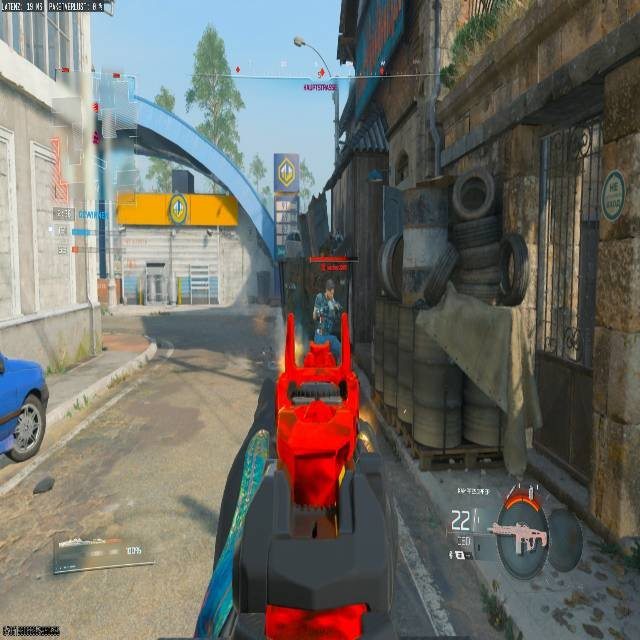head: (324, 283, 335, 299)
player: (311, 285, 343, 366)
